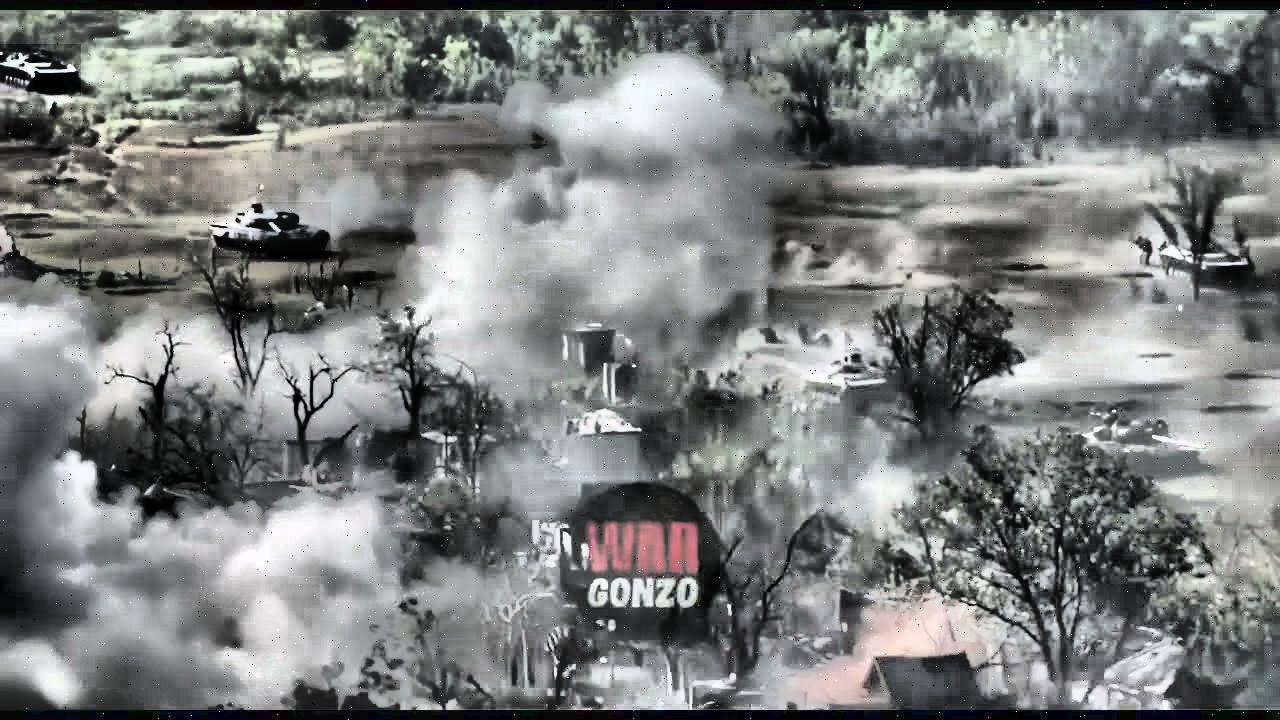military-vehicle: (1066, 411, 1204, 471), (213, 202, 331, 259), (0, 44, 81, 96)
